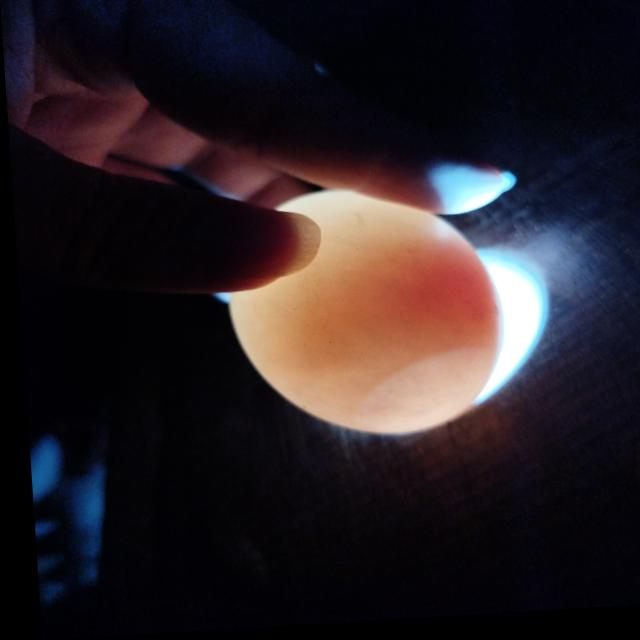Camara de Ar: (349, 356, 490, 437)
Gema Quebrada: (364, 257, 493, 348)
